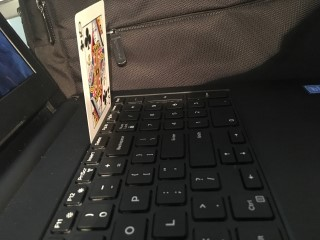QueenOfClubs: (74, 1, 111, 143)
